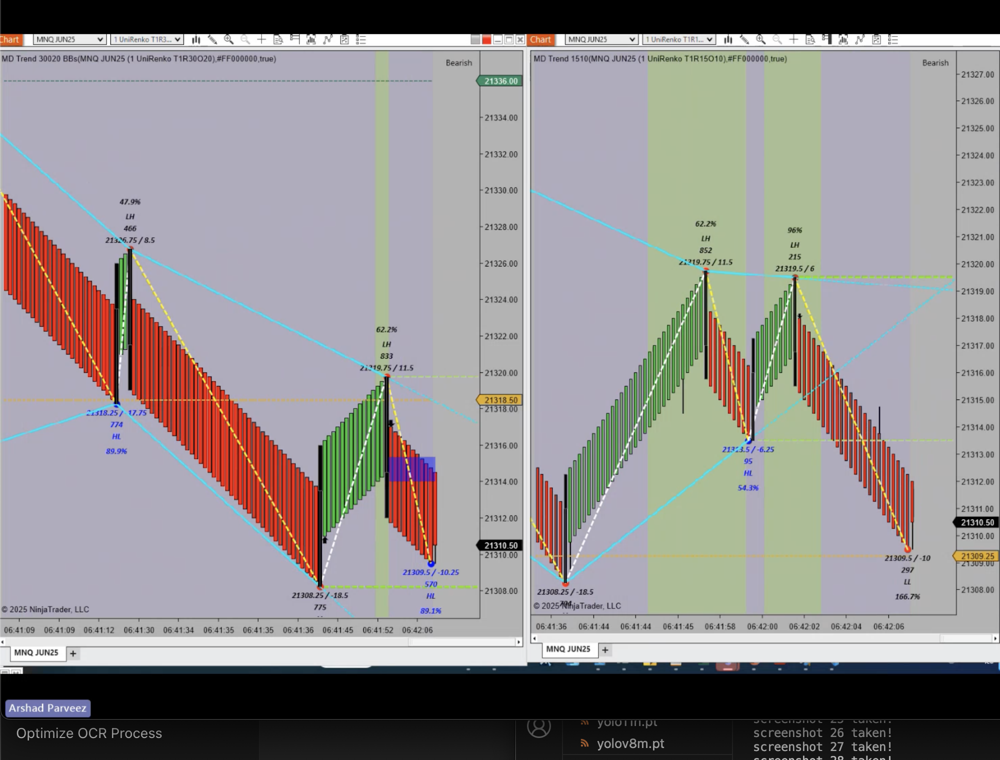HL: (106, 429, 129, 445), (422, 590, 441, 604), (740, 466, 755, 480)
LH: (784, 236, 806, 252), (376, 336, 399, 351), (697, 231, 716, 246), (120, 209, 139, 222)
LL: (901, 575, 915, 589)
